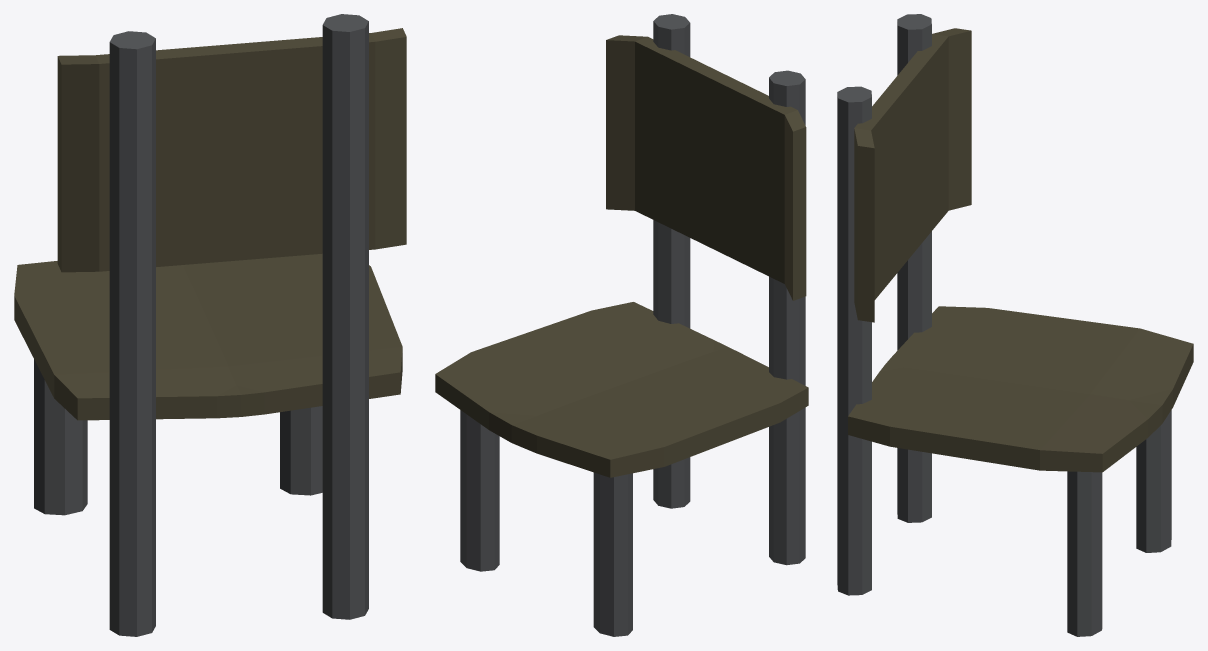
File: MeetingChair.fbx
3 views of the same model, side by side, from view 1: azimuth 30°, elevation 25°; view 2: azimuth 150°, elevation 25°; view 3: azimuth 270°, elevation 25° (orthographic). The views are drawn at different scales.
Visible parts, largest first — view 1: MeetingChair.004; view 2: MeetingChair.004; view 3: MeetingChair.004.
Part boxes in pixels (<box>): MeetingChair.004: <box>14,14,406,636</box>; MeetingChair.004: <box>435,14,808,636</box>; MeetingChair.004: <box>837,14,1193,636</box>.
Bounding box in the file's own units: 98.02 × 150 × 98.13.
